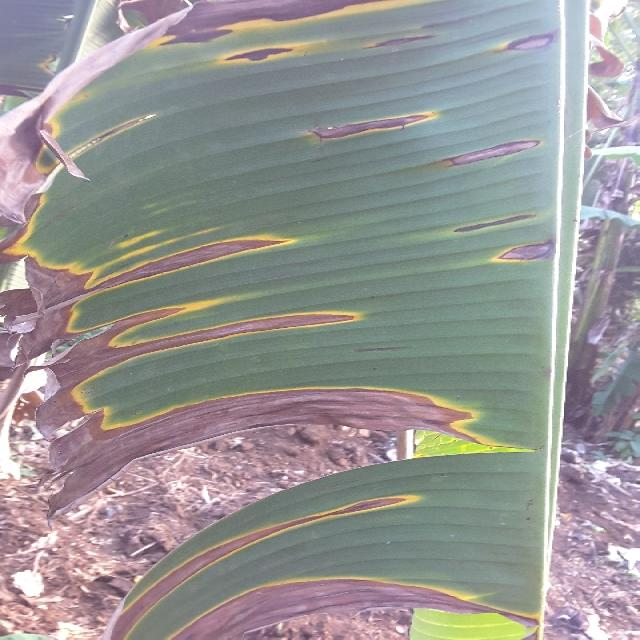Cordana: (35, 271, 549, 457), (108, 480, 549, 640), (22, 0, 478, 112), (0, 181, 333, 303), (448, 204, 573, 287), (293, 98, 461, 146), (435, 129, 542, 193), (472, 18, 569, 75), (190, 34, 306, 76), (350, 24, 445, 58)
